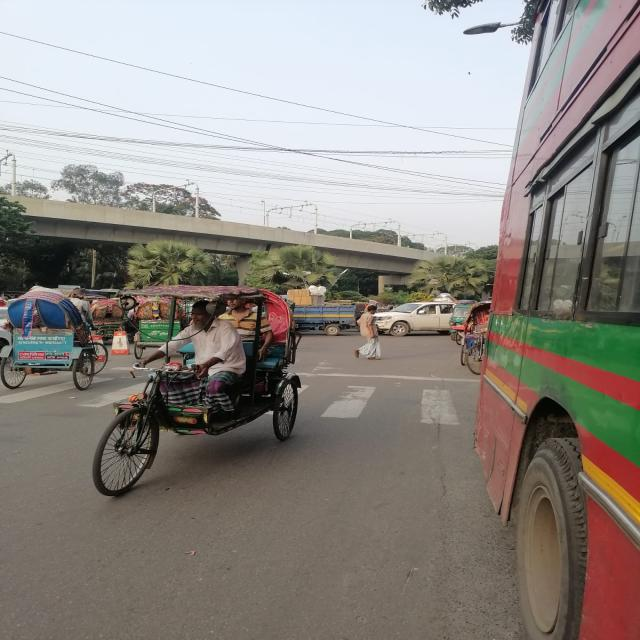person: (354, 304, 380, 360)
